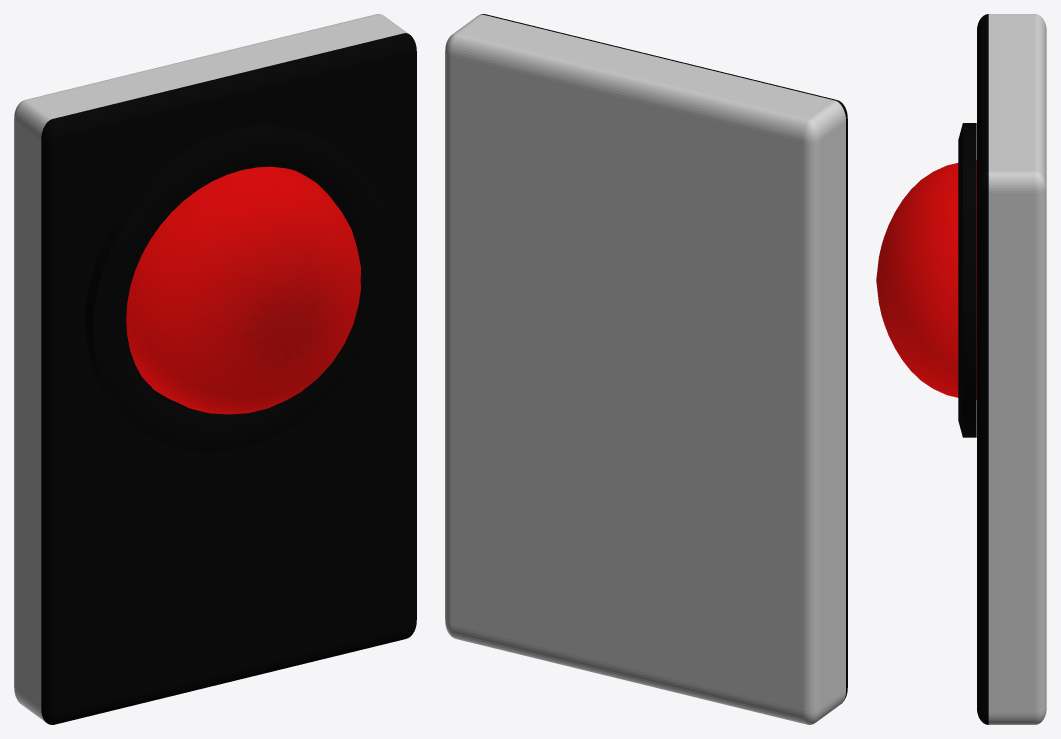
The model's file is emergency-button.glb.
The picture shows the model from 3 angles, left to right: view 1: azimuth 30°, elevation 25°; view 2: azimuth 150°, elevation 25°; view 3: azimuth 270°, elevation 25°; orthographic projection. The views are drawn at different scales.
Parts seen in each view (by area): view 1: box-top, button, Torus, box-bottom; view 2: box-bottom, box-top; view 3: box-bottom, button, box-top, Torus.
Part boxes in pixels (bbox=[...]): box-top: bbox=[41, 33, 416, 724]; button: bbox=[126, 166, 360, 414]; Torus: bbox=[85, 125, 391, 451]; box-bottom: bbox=[14, 14, 407, 721]; box-bottom: bbox=[445, 14, 845, 724]; box-top: bbox=[480, 14, 847, 701]; box-bottom: bbox=[988, 14, 1046, 724]; button: bbox=[876, 160, 976, 399]; box-top: bbox=[977, 14, 988, 724]; Torus: bbox=[958, 123, 976, 437].
Bounding box in the file's own units: 0.1611 × 0.2491 × 0.0696.
Materials: 4 (1 with a texture image).
